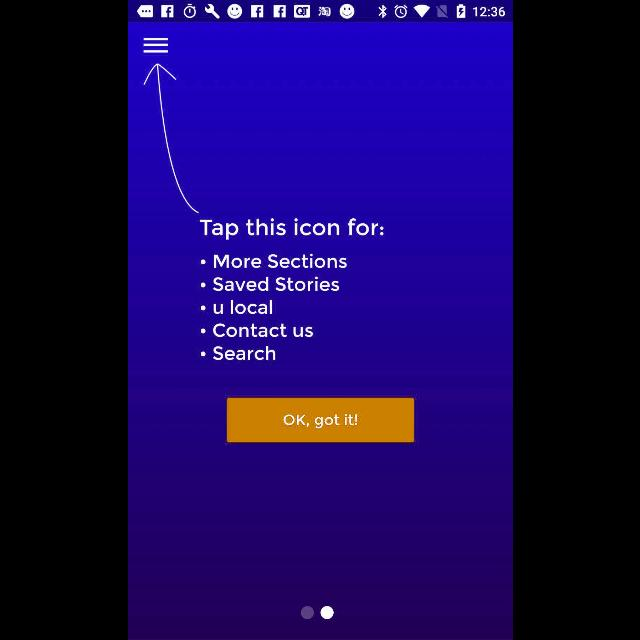icon: (142, 38, 168, 54)
image: (142, 64, 198, 214)
pageindicator: (299, 606, 333, 620)
text: (200, 255, 346, 362), (198, 218, 384, 240)
textbutton: (226, 398, 414, 442)
uppertaskbar: (128, 1, 512, 23)
